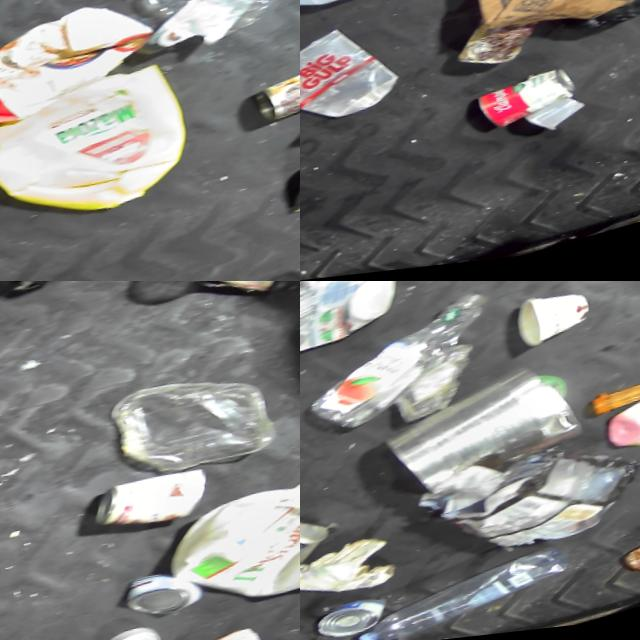can: (88, 473, 219, 550), (471, 67, 595, 147), (131, 573, 216, 631), (324, 599, 399, 640), (257, 67, 300, 137), (300, 508, 338, 580)
milk_jug: (0, 60, 204, 250), (186, 486, 300, 624)
plastic_bottle: (307, 290, 511, 439), (356, 557, 576, 640), (121, 0, 296, 73), (300, 281, 333, 365)
